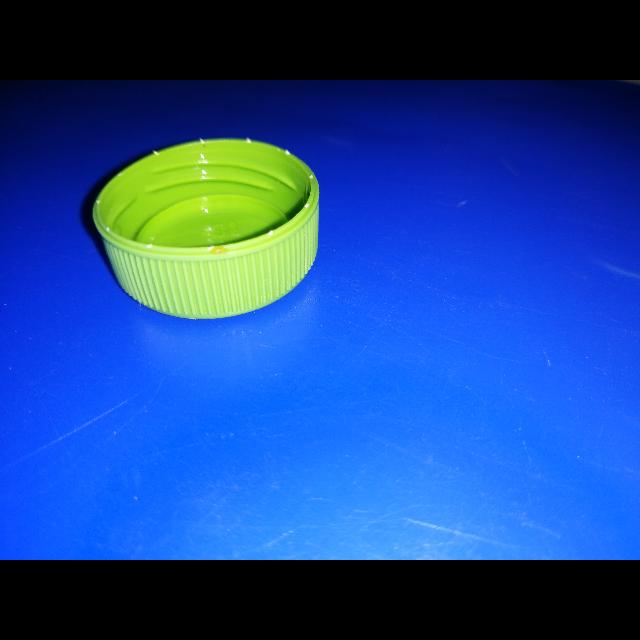plastic_bottle_cap: (91, 136, 322, 320)
